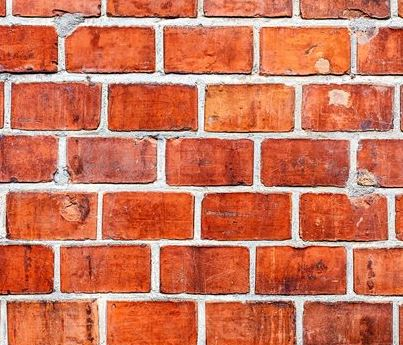brick: (300, 81, 395, 135), (253, 243, 348, 296), (5, 188, 101, 240), (107, 80, 200, 133), (198, 190, 296, 240), (9, 79, 104, 130), (161, 23, 254, 75), (4, 296, 102, 345), (63, 25, 159, 75), (58, 242, 153, 292), (204, 80, 297, 131), (101, 191, 197, 240), (258, 26, 351, 76), (298, 190, 387, 242), (104, 298, 201, 345), (165, 137, 255, 187), (261, 137, 352, 186), (67, 136, 159, 183), (304, 299, 396, 345), (159, 247, 252, 292), (206, 300, 297, 345), (1, 24, 61, 74), (1, 133, 61, 182), (1, 243, 56, 296), (355, 26, 403, 77), (352, 247, 403, 295), (356, 136, 403, 186), (106, 1, 198, 21), (203, 1, 295, 21), (299, 1, 393, 19), (11, 1, 102, 17)
